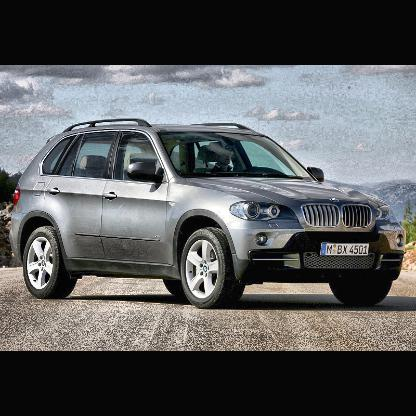BMW X5 SUV 2007: (7, 121, 405, 308)
